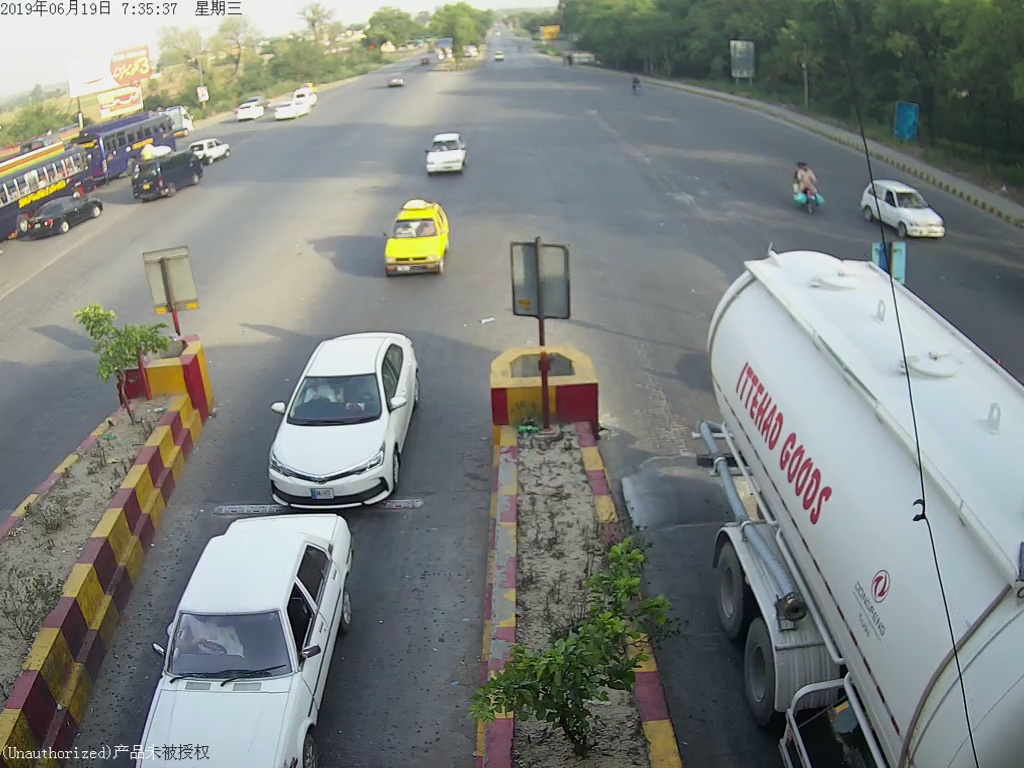Cat-1: (256, 347, 423, 513), (375, 202, 456, 283)
